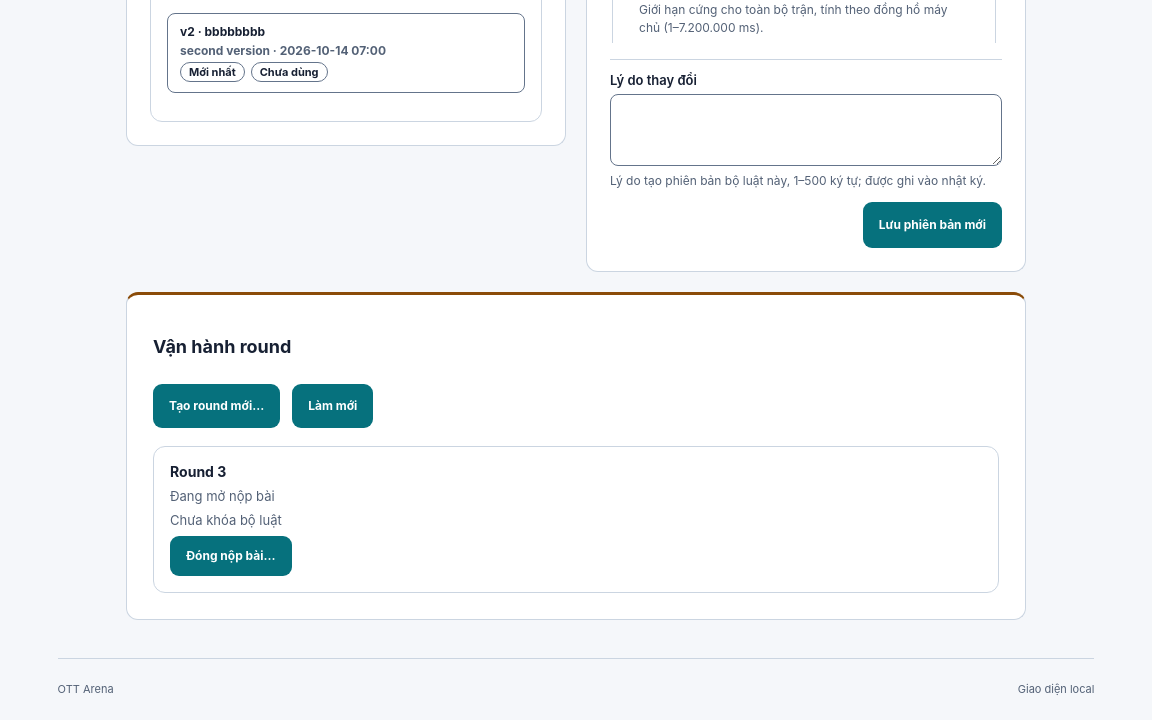
RoundAdmin close errors and UX improvements (loop 104) › explains ROUND_NOT_OPEN
(page scrolled)
Check: the heading "Round 3" is shown, box left=170, top=462, right=226, bottom=480
Click the button "Đóng nộp bài…".
click(231, 556)  # box left=170, top=536, right=292, bottom=576
(page scrolled)
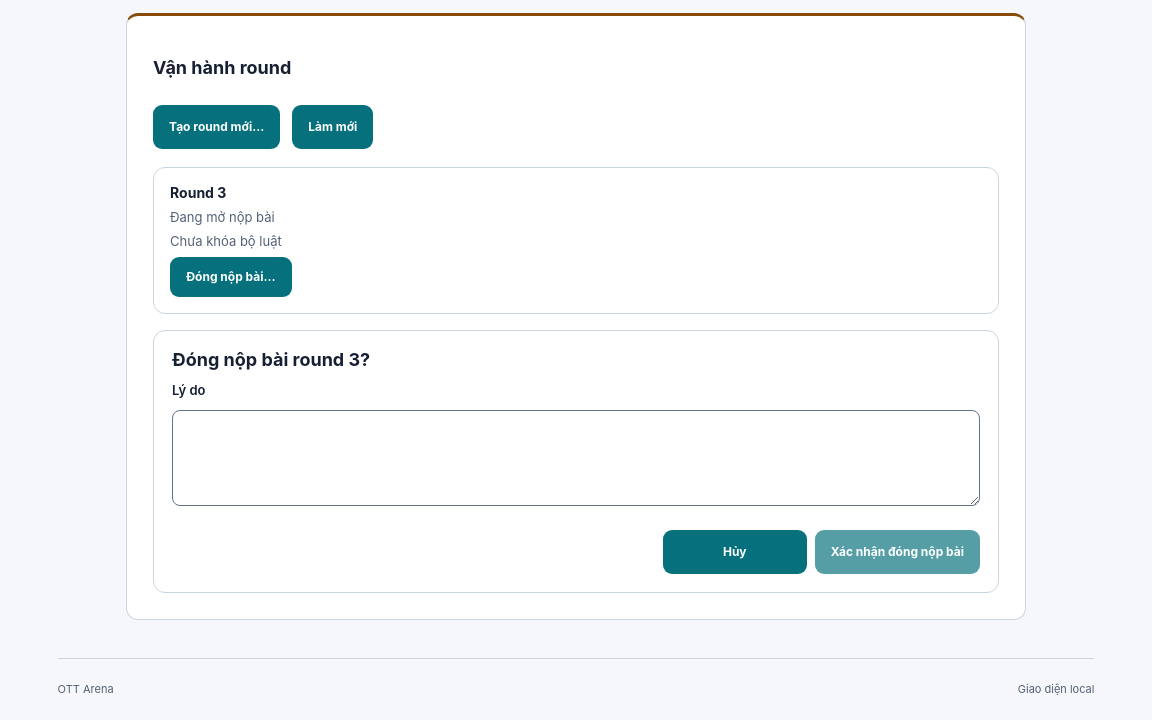
Type "Đóng nộp bài" into the text box labelled "Lý do".
click(576, 458); type("Đóng nộp bài")  # box left=172, top=410, right=980, bottom=506
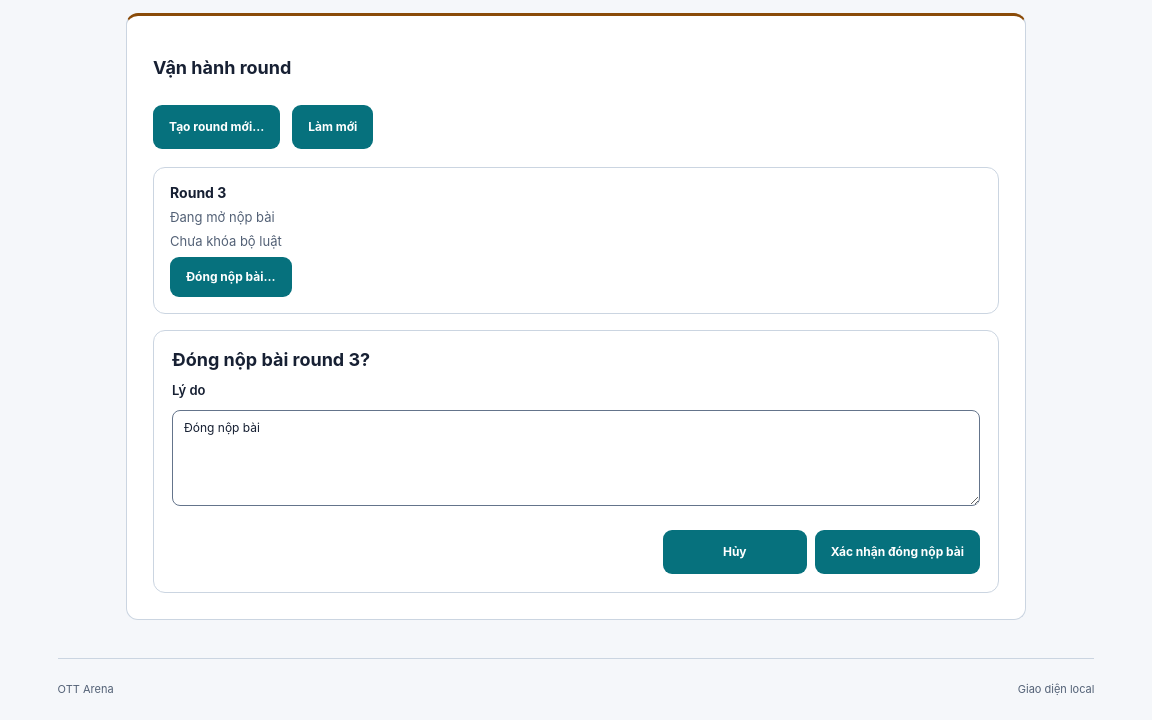
Click the button "Xác nhận đóng nộp bài".
click(897, 552)  # box left=815, top=530, right=980, bottom=574
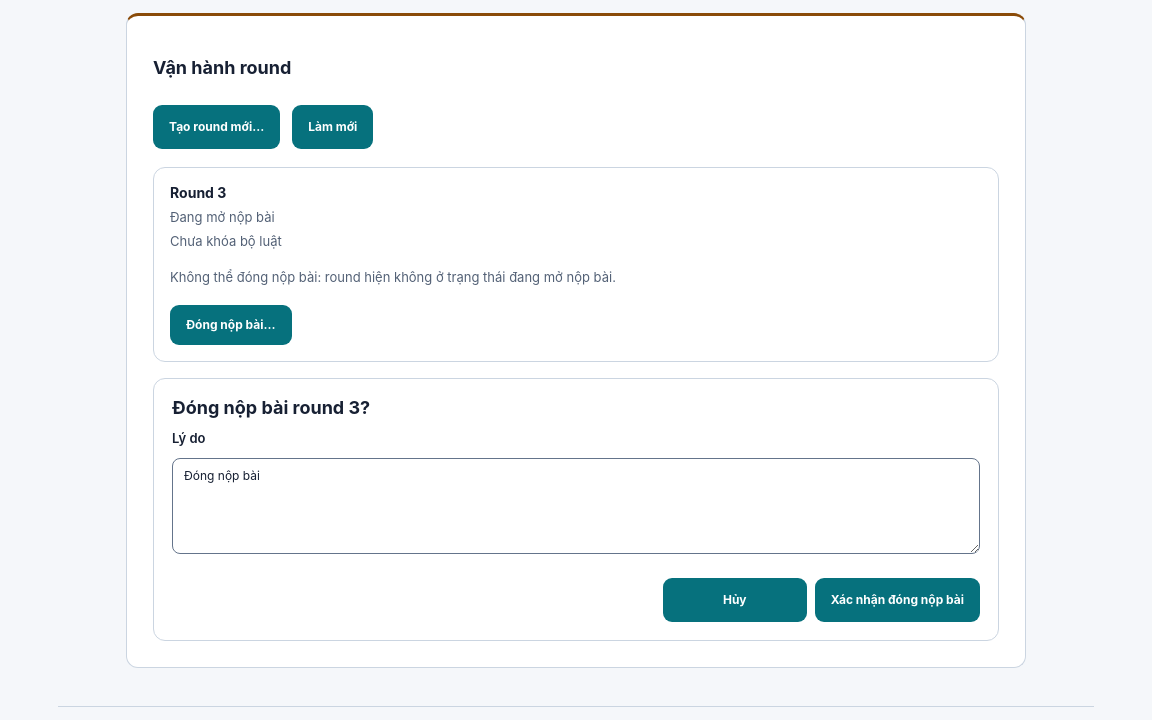
Check: the text "round hiện không ở trạng thái đang mở nộp bài" is shown, box left=170, top=268, right=616, bottom=284
